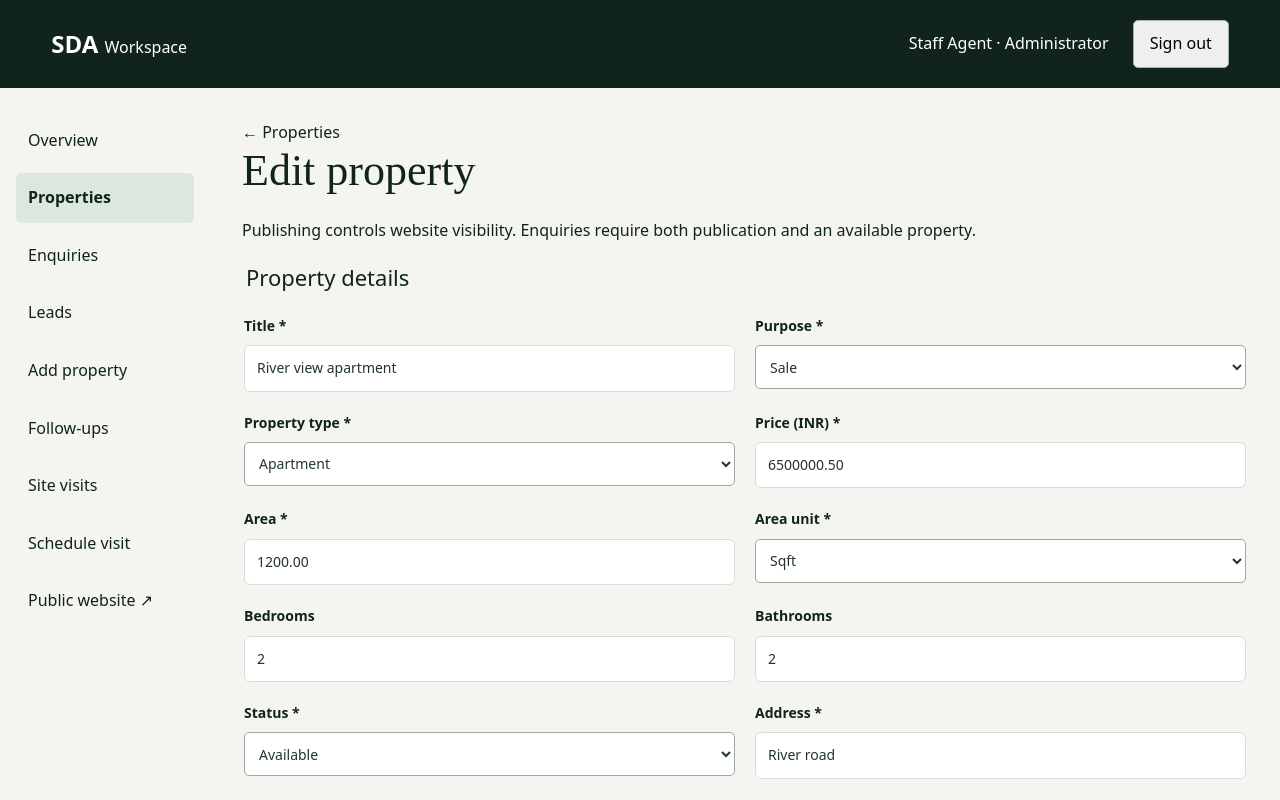
Test: preserves unsaved values after server field errors
Replace the text in the field labelled "Title *" with "Keep this title" at coordinates (490, 368), box [244,345,735,392]
(page scrolled)
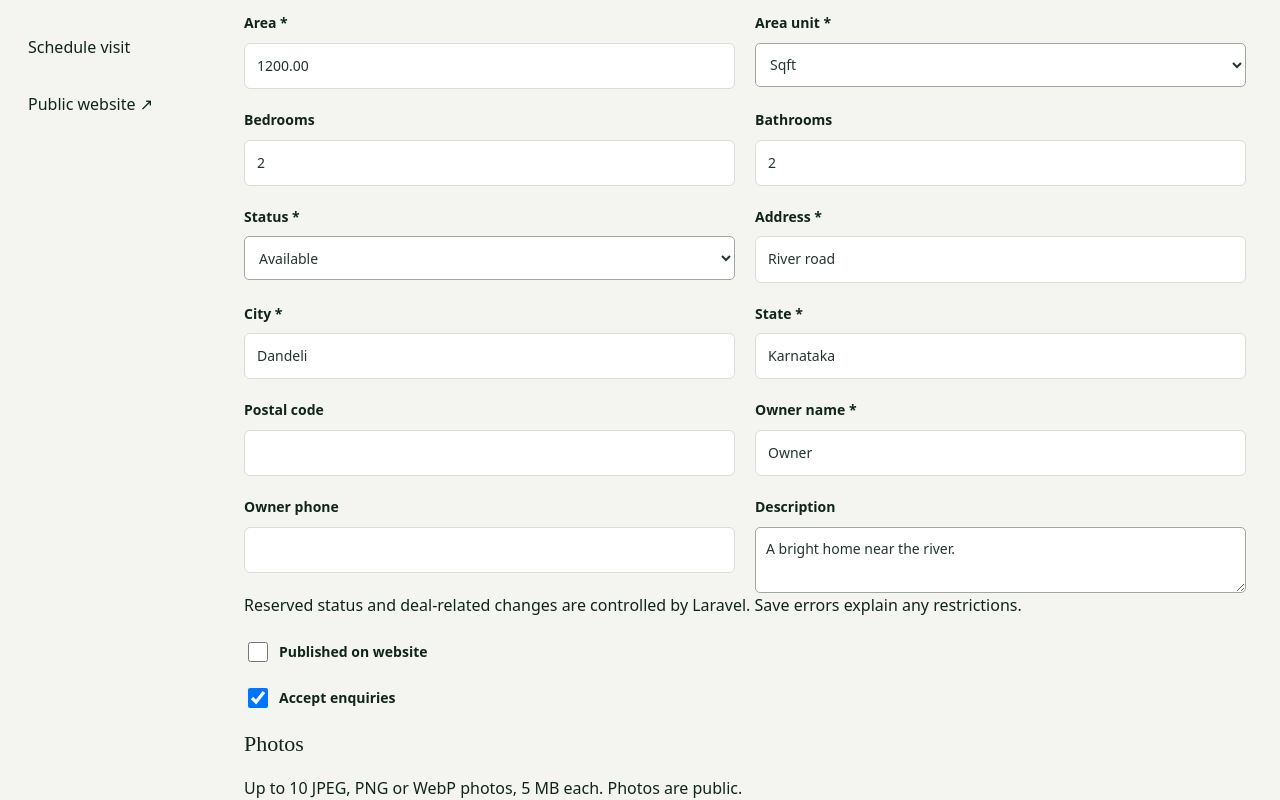
Submit the form named "Save property"
(page scrolled)
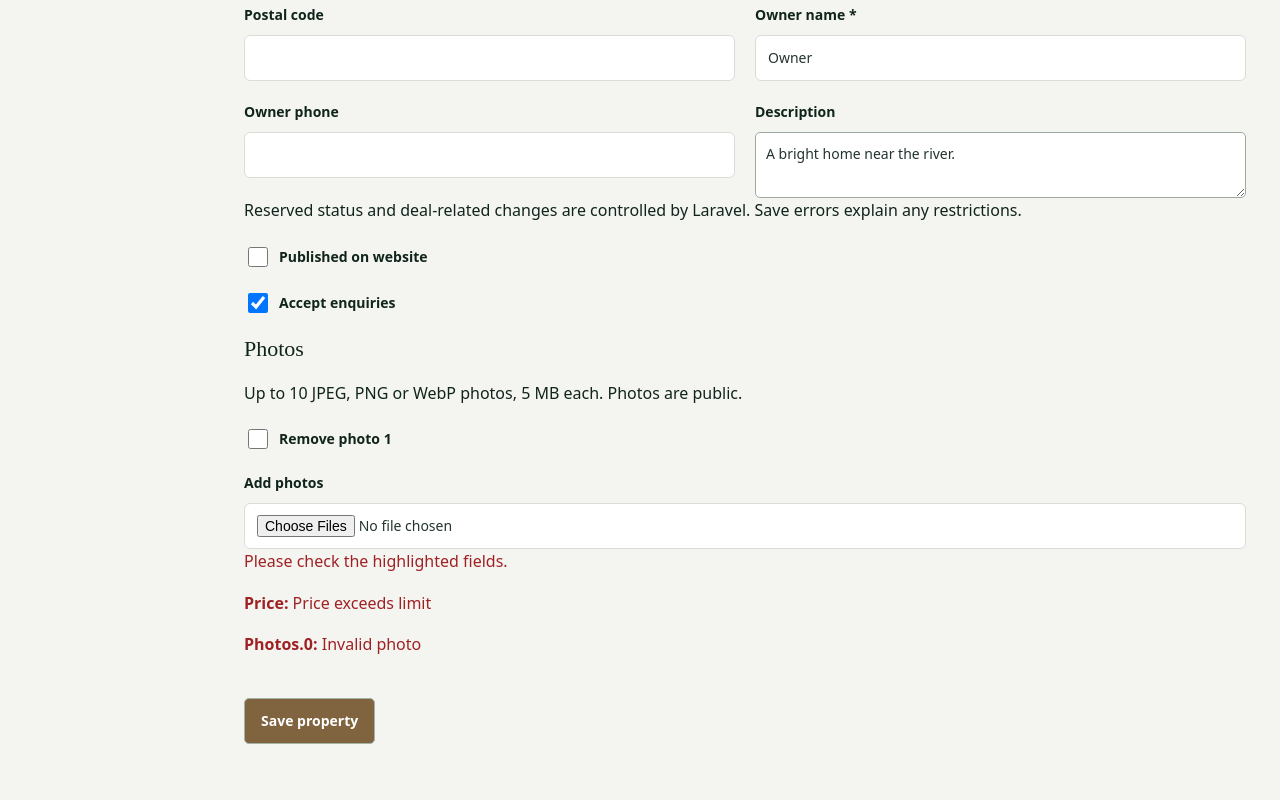
Now the text "Price: Price exceeds limit" is shown, box [244,592,431,614]
Now the text "Photos.0: Invalid photo" is shown, box [244,633,421,655]
